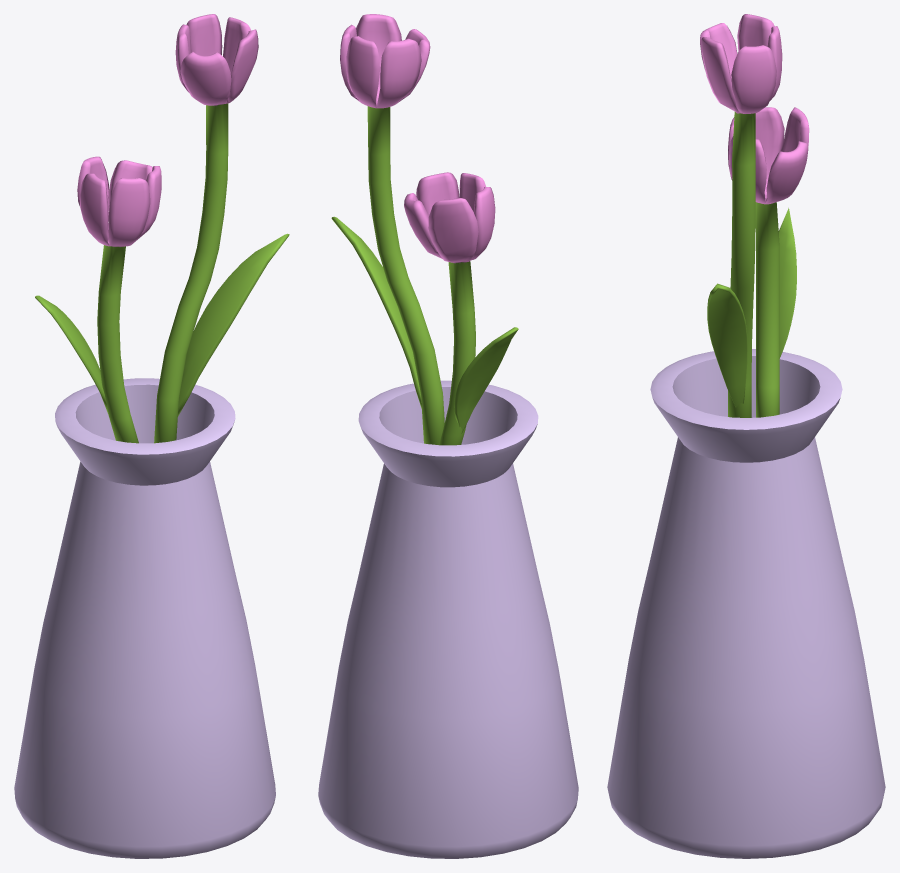
The model's file is Tulip.fbx.
3 renders of one model, left to right at view 1: azimuth 30°, elevation 25°; view 2: azimuth 150°, elevation 25°; view 3: azimuth 270°, elevation 25°, orthographic. The views are drawn at different scales.
Visible parts, largest first — view 1: Cylinder, Cylinder.002, Cylinder.001, Cube.001, Cube; view 2: Cylinder, Cylinder.002, Cylinder.001, Cube, Cube.001; view 3: Cylinder, Cylinder.002, Cylinder.001, Cube.001, Cube.
Part boxes in pixels (x1,y1,x2,y2): Cylinder: (14,378,275,858); Cylinder.002: (154,14,258,443); Cylinder.001: (77,156,161,443); Cube.001: (178,233,289,416); Cube: (35,295,108,414); Cylinder: (318,380,578,858); Cylinder.002: (340,14,444,444); Cylinder.001: (404,172,495,445); Cube: (454,327,518,434); Cube.001: (331,216,421,408); Cylinder: (607,349,885,858); Cylinder.002: (700,14,782,417); Cylinder.001: (728,107,809,417); Cube.001: (707,283,747,407); Cube: (778,208,796,358).
Bounding box in the file's own units: 183 × 547 × 170.
Materials: 1 (1 with a texture image).
